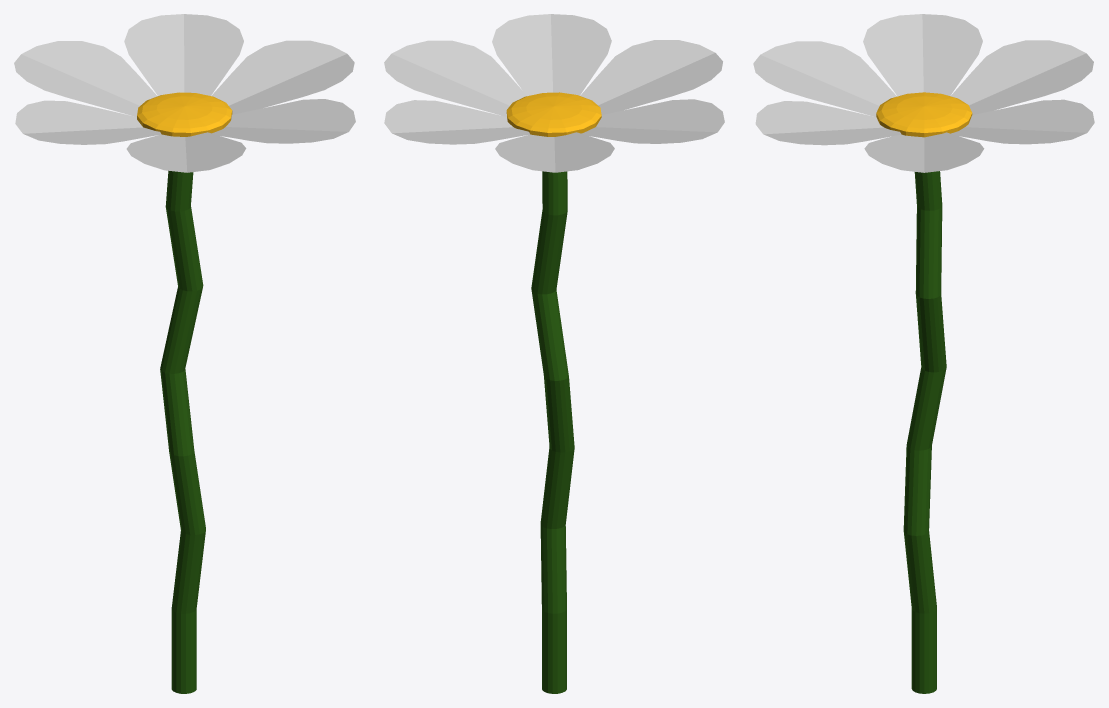
The model's file is whiteflower.fbx.
The picture shows the model from 3 angles, left to right: view 1: azimuth 30°, elevation 25°; view 2: azimuth 150°, elevation 25°; view 3: azimuth 270°, elevation 25°; orthographic projection.
Parts seen in each view (by area): view 1: Circle, Circle.001; view 2: Circle, Circle.001; view 3: Circle, Circle.001.
Part boxes in pixels (left/top/right/bottom): Circle: left=14, top=14, right=355, bottom=172; Circle.001: left=137, top=92, right=232, bottom=693; Circle: left=384, top=14, right=724, bottom=172; Circle.001: left=506, top=92, right=601, bottom=693; Circle: left=753, top=14, right=1094, bottom=172; Circle.001: left=876, top=92, right=972, bottom=693.
Bounding box in the file's own units: 31.33 × 54.86 × 28.46.
